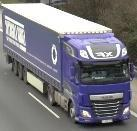truck: (2, 3, 131, 126)
